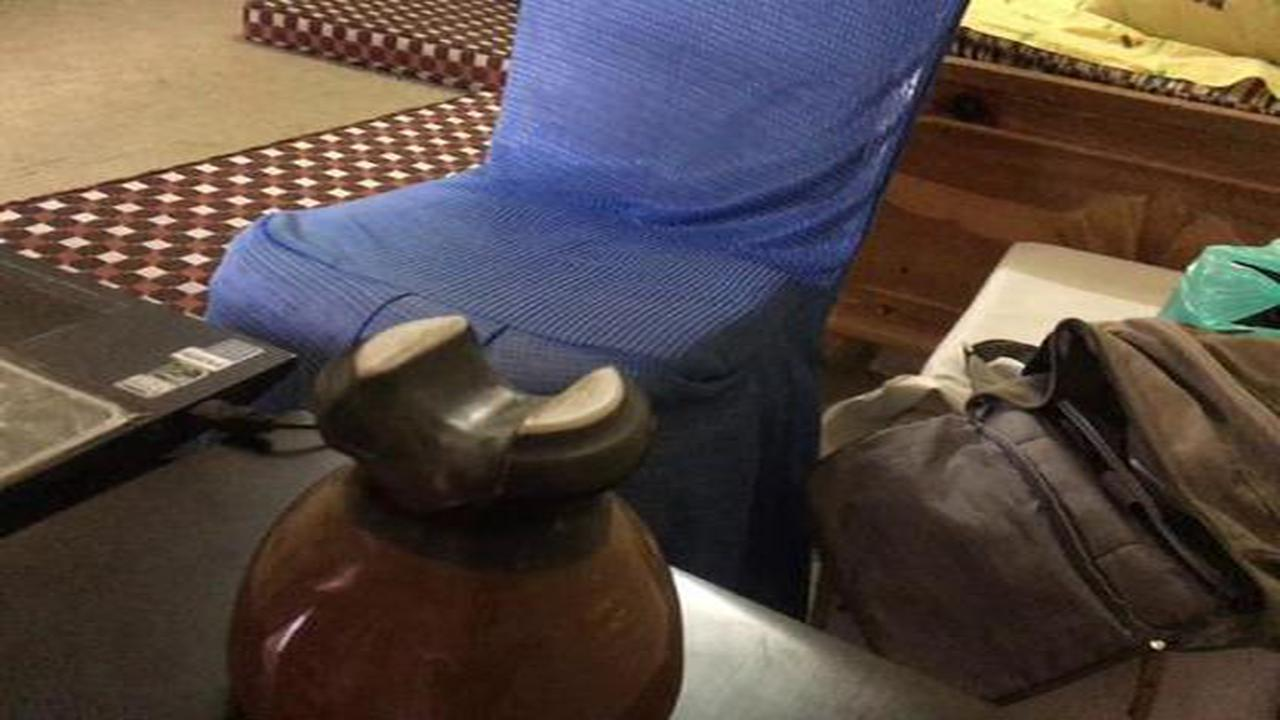insulator_pin: (210, 304, 696, 720)
